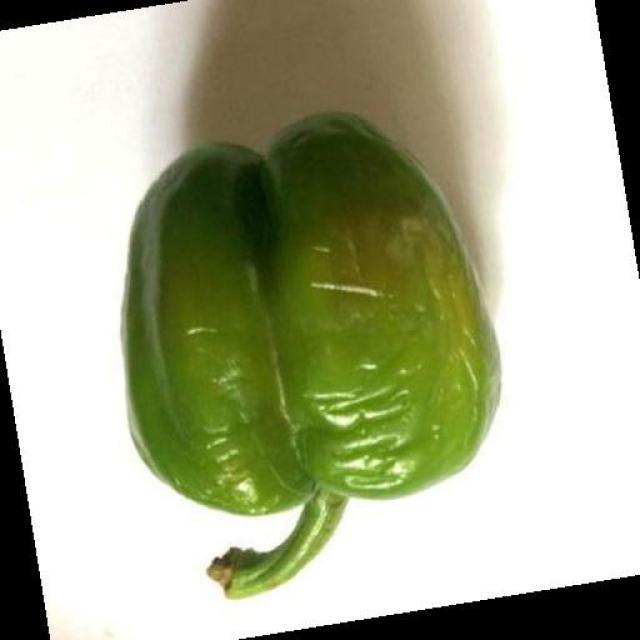Stale_Capsicum: (109, 168, 488, 517)
